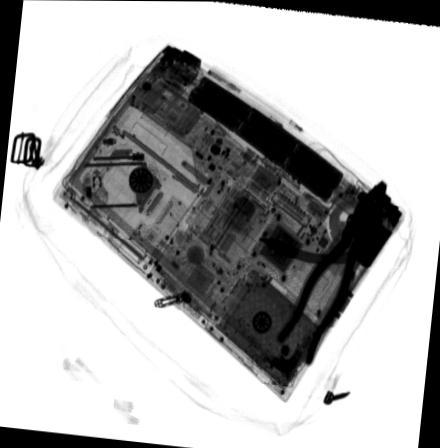Pliers: (275, 177, 388, 366)
